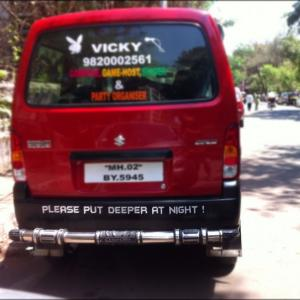Vehicle-registration-plate: (86, 164, 163, 185)
